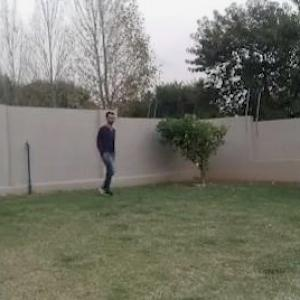follow: (97, 109, 120, 199)
